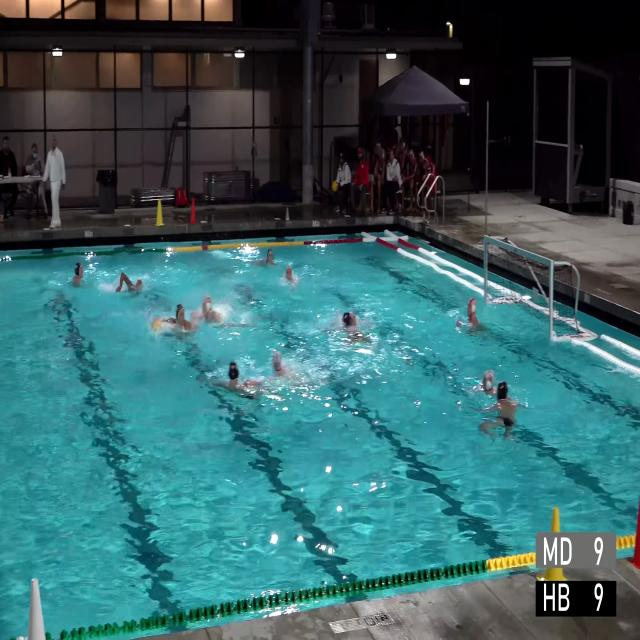ball: (152, 320, 162, 330), (332, 180, 338, 192)
